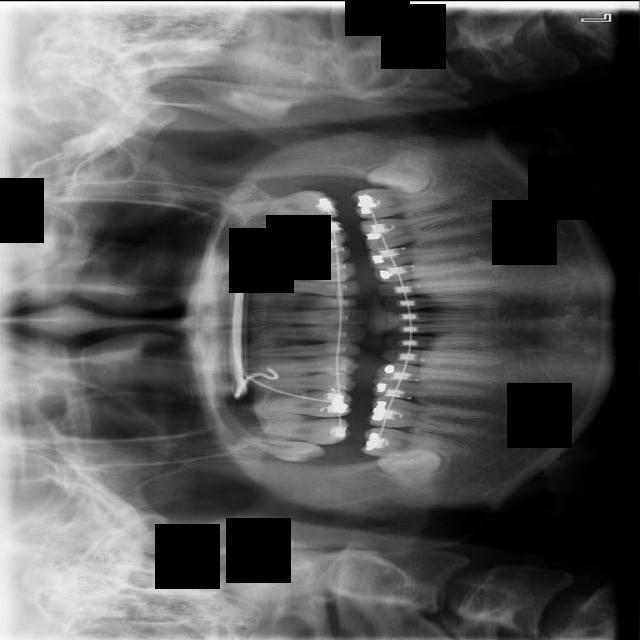3M ESPE Implant: (240, 435, 328, 464)
52: (355, 212, 403, 255), (365, 390, 411, 433), (357, 422, 399, 460), (349, 186, 391, 221), (307, 387, 353, 418), (375, 361, 412, 381), (372, 377, 407, 398), (367, 246, 400, 268), (373, 263, 403, 282)
73: (619, 9, 625, 17)
BioHorizons Implant: (207, 186, 343, 219)
Biomet 3i Implant: (366, 150, 430, 193)
Blue Sky Bio Implant: (349, 178, 462, 221)
Caries: (229, 415, 353, 450)
Implant: (359, 424, 468, 463)
Keystone Dental Implant: (373, 425, 447, 497)
